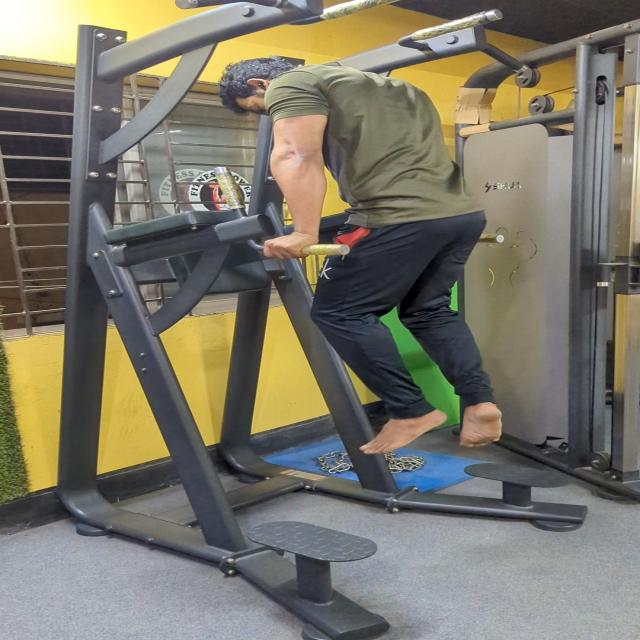Normal_Dips: (160, 48, 640, 493)
